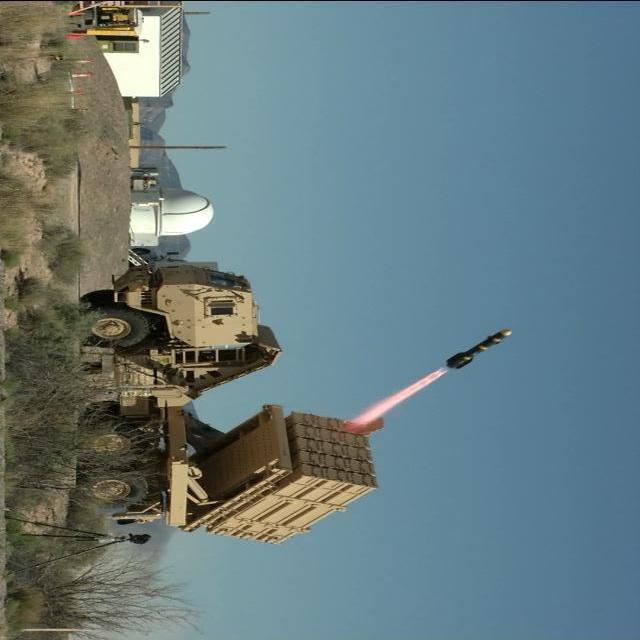missile: (444, 324, 515, 374)
